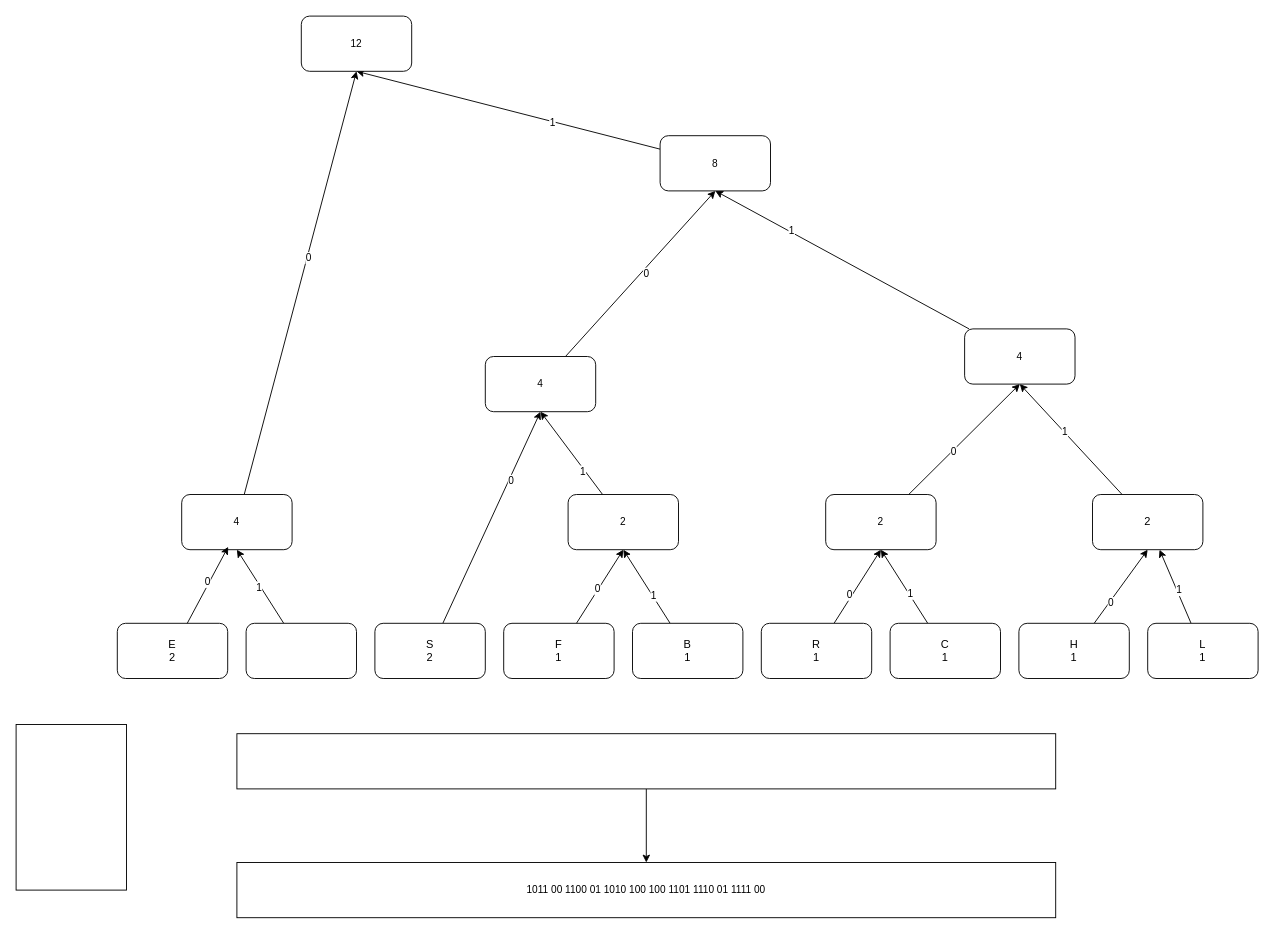
Image size: 1274x934. Some labels were removed from this diagram. Each missing label, with the centre of its shape:
BERUFSSCHULE: pixel 646 761
E=00 U=01 S=100 F=1010 B=1011 R=1100 C=1101 H=1110 L=1111: pixel 70 807
U 2: pixel 300 650
